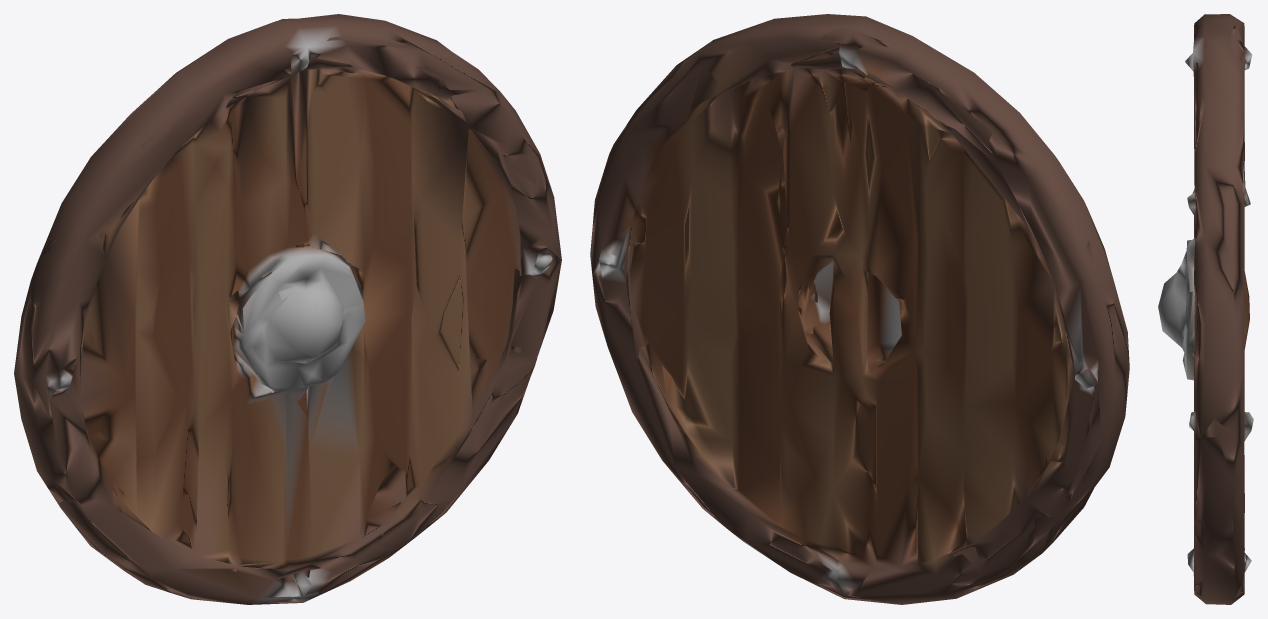
File: gen3d-round-shield-lod0.glb
3 views of the same model, side by side, from view 1: azimuth 30°, elevation 25°; view 2: azimuth 150°, elevation 25°; view 3: azimuth 270°, elevation 25° (orthographic). The views are drawn at different scales.
Visible parts, largest first — view 1: part_0; view 2: part_0; view 3: part_0.
Part boxes in pixels (x1,y1,x2,y2): part_0: [14, 14, 561, 604]; part_0: [590, 14, 1129, 604]; part_0: [1158, 14, 1253, 604].
Bounding box in the file's own units: 0.9597 × 0.9965 × 0.1579.
